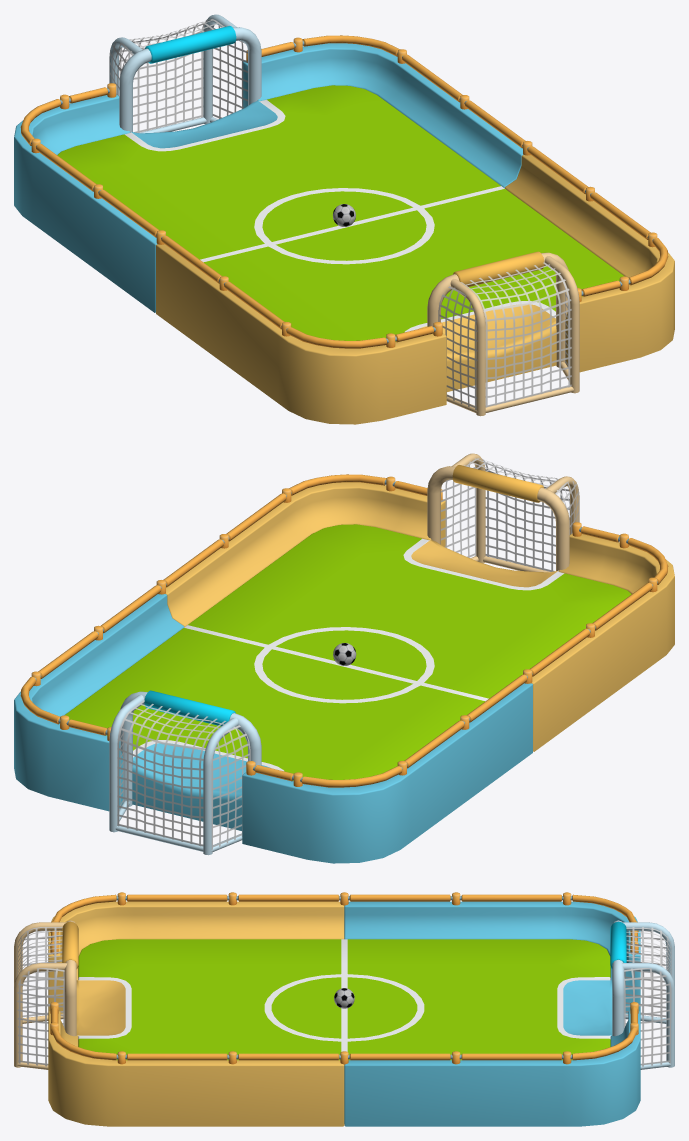
File: soccerfield.gltf
The picture shows the model from 3 angles, top to bottom: view 1: azimuth 30°, elevation 25°; view 2: azimuth 150°, elevation 25°; view 3: azimuth 270°, elevation 25°; orthographic projection. The views are drawn at different scales.
Parts seen in each view (by area): view 1: SoccerField, SoccerGates, SoccerFence; view 2: SoccerField, SoccerGates, SoccerFence; view 3: SoccerField, SoccerFence, SoccerGates.
Boxes of the visible parts, box(x1,y1,x2,y2) form: SoccerField: box(14, 14, 674, 424); SoccerGates: box(109, 19, 571, 412); SoccerFence: box(20, 35, 668, 348); SoccerField: box(14, 453, 674, 863); SoccerGates: box(117, 458, 579, 852); SoccerFence: box(20, 474, 668, 787); SoccerField: box(14, 901, 674, 1126); SoccerFence: box(50, 892, 638, 1064); SoccerGates: box(17, 927, 671, 1068).
Bounding box in the file's own units: 19.56 × 5.88 × 33.29.
Materials: 11 (3 with a texture image).
